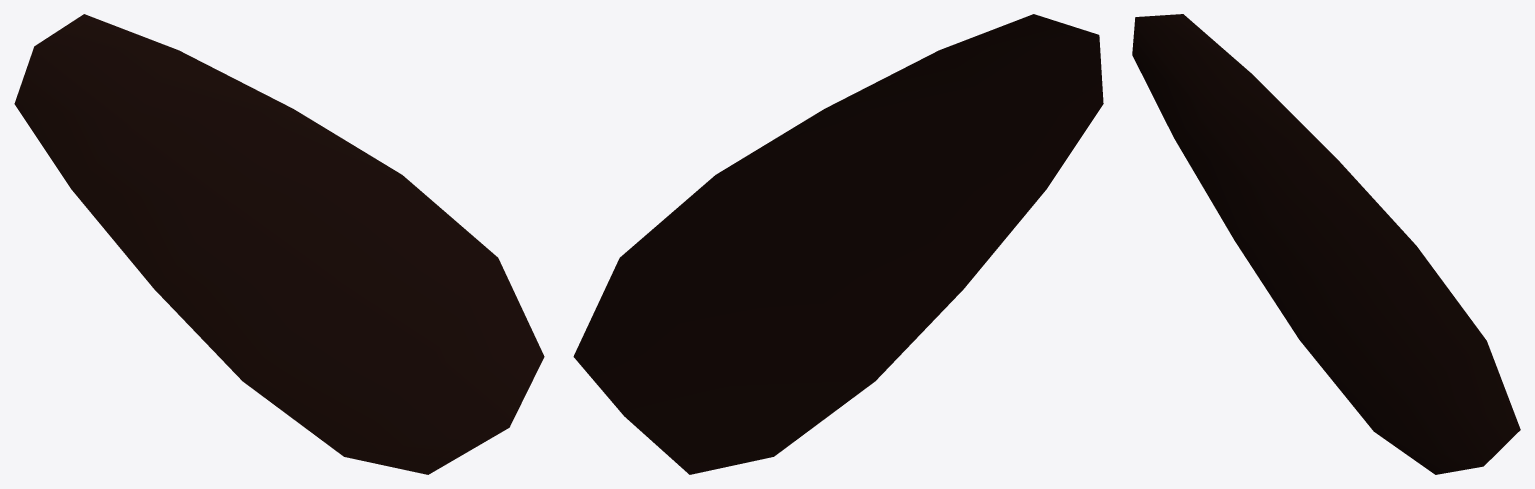
File: finch_feather_flight_secondary_013.obj
The picture shows the model from 3 angles, left to right: view 1: azimuth 30°, elevation 25°; view 2: azimuth 150°, elevation 25°; view 3: azimuth 330°, elevation 25°; orthographic projection. The views are drawn at different scales.
Parts seen in each view (by area): view 1: feather_flight_secondary_013; view 2: feather_flight_secondary_013; view 3: feather_flight_secondary_013.
Boxes of the visible parts, x1,y1,x2,y2 form: feather_flight_secondary_013: [14, 14, 544, 474]; feather_flight_secondary_013: [573, 14, 1103, 474]; feather_flight_secondary_013: [1132, 14, 1520, 474].
Bounding box in the file's own units: 0.0131 × 0.0129 × 0.000337.
